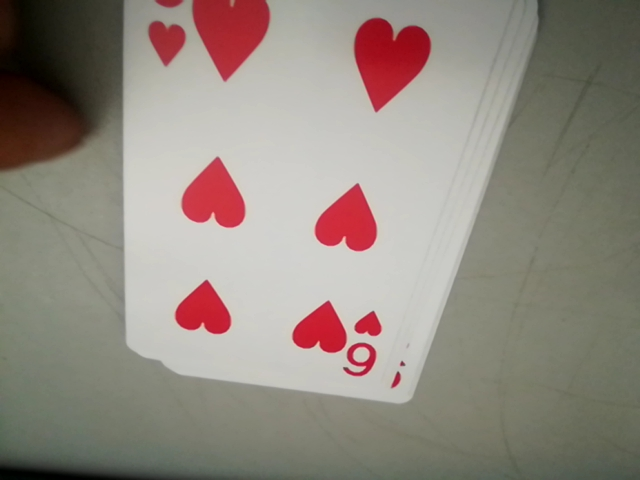hx 6: (343, 310, 385, 378)
